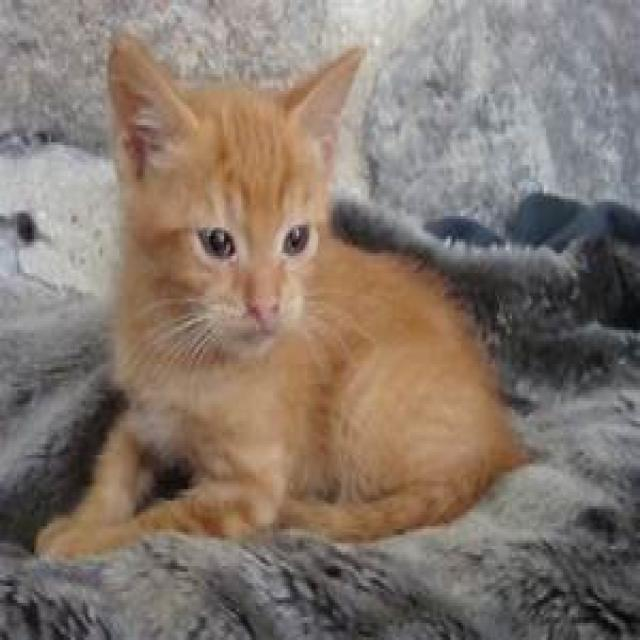animal: (56, 0, 535, 583)
